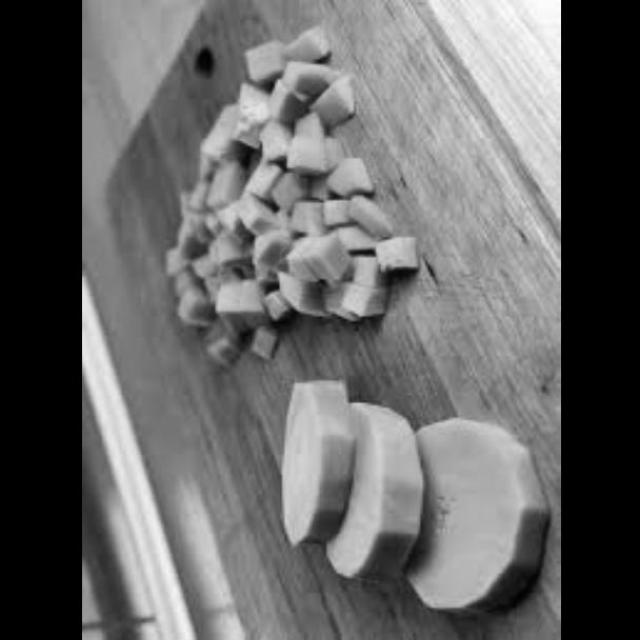bi ngo: (142, 30, 440, 368), (409, 420, 547, 618), (320, 396, 420, 585), (272, 372, 354, 550)
